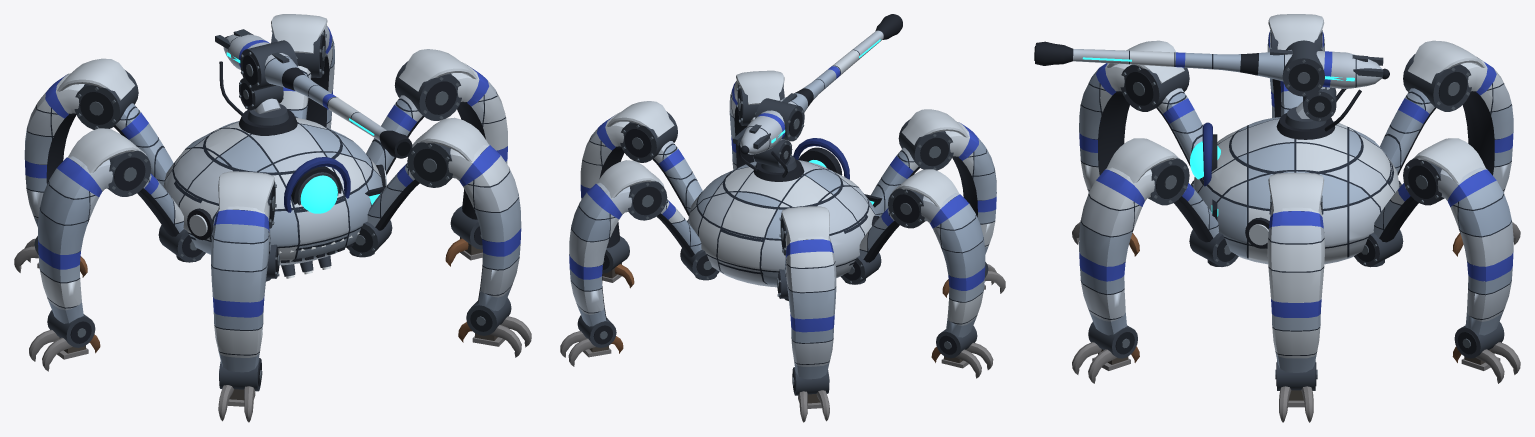
Rendered from heavy.glb.
The picture shows the model from 3 angles, left to right: view 1: azimuth 30°, elevation 25°; view 2: azimuth 150°, elevation 25°; view 3: azimuth 270°, elevation 25°; orthographic projection. The views are drawn at different scales.
Visible parts, largest first — view 1: hv_dome, hv_leg3, hv_leg0, hv_leg1, hv_leg5, hv_leg2, hv_cannon, hv_leg4; view 2: hv_dome, hv_leg3, hv_leg4, hv_leg5, hv_leg1, hv_leg2, hv_cannon, hv_leg0; view 3: hv_dome, hv_leg0, hv_leg4, hv_leg2, hv_cannon, hv_leg5, hv_leg1, hv_leg3.
Boxes of the visible parts, bbox=[...] form: hv_dome: bbox=[163, 117, 386, 265]; hv_leg3: bbox=[29, 128, 205, 371]; hv_leg0: bbox=[347, 117, 531, 357]; hv_leg1: bbox=[211, 171, 279, 422]; hv_leg5: bbox=[14, 58, 173, 277]; hv_leg2: bbox=[366, 49, 507, 266]; hv_cannon: bbox=[215, 29, 412, 158]; hv_leg4: bbox=[271, 14, 334, 128]; hv_dome: bbox=[688, 138, 882, 287]; hv_leg3: bbox=[840, 169, 993, 378]; hv_leg4: bbox=[560, 160, 719, 366]; hv_leg5: bbox=[777, 206, 836, 422]; hv_leg1: bbox=[870, 109, 1005, 297]; hv_leg2: bbox=[580, 101, 702, 288]; hv_cannon: bbox=[733, 14, 902, 181]; hv_leg0: bbox=[729, 70, 784, 169]; hv_dome: bbox=[1190, 117, 1399, 264]; hv_leg0: bbox=[1072, 138, 1238, 383]; hv_leg4: bbox=[1354, 138, 1520, 383]; hv_leg2: bbox=[1267, 172, 1324, 422]; hv_cannon: bbox=[1034, 40, 1389, 139]; hv_leg5: bbox=[1380, 40, 1520, 256]; hv_leg1: bbox=[1072, 40, 1202, 256]; hv_leg3: bbox=[1267, 14, 1324, 117].
Size of the model in its own units: 14.45 by 7.8 by 12.87.
